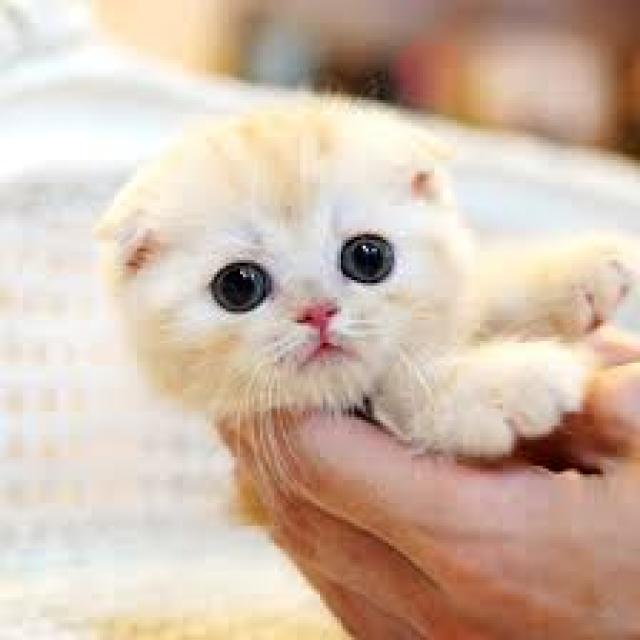cat-face: (71, 59, 450, 419)
